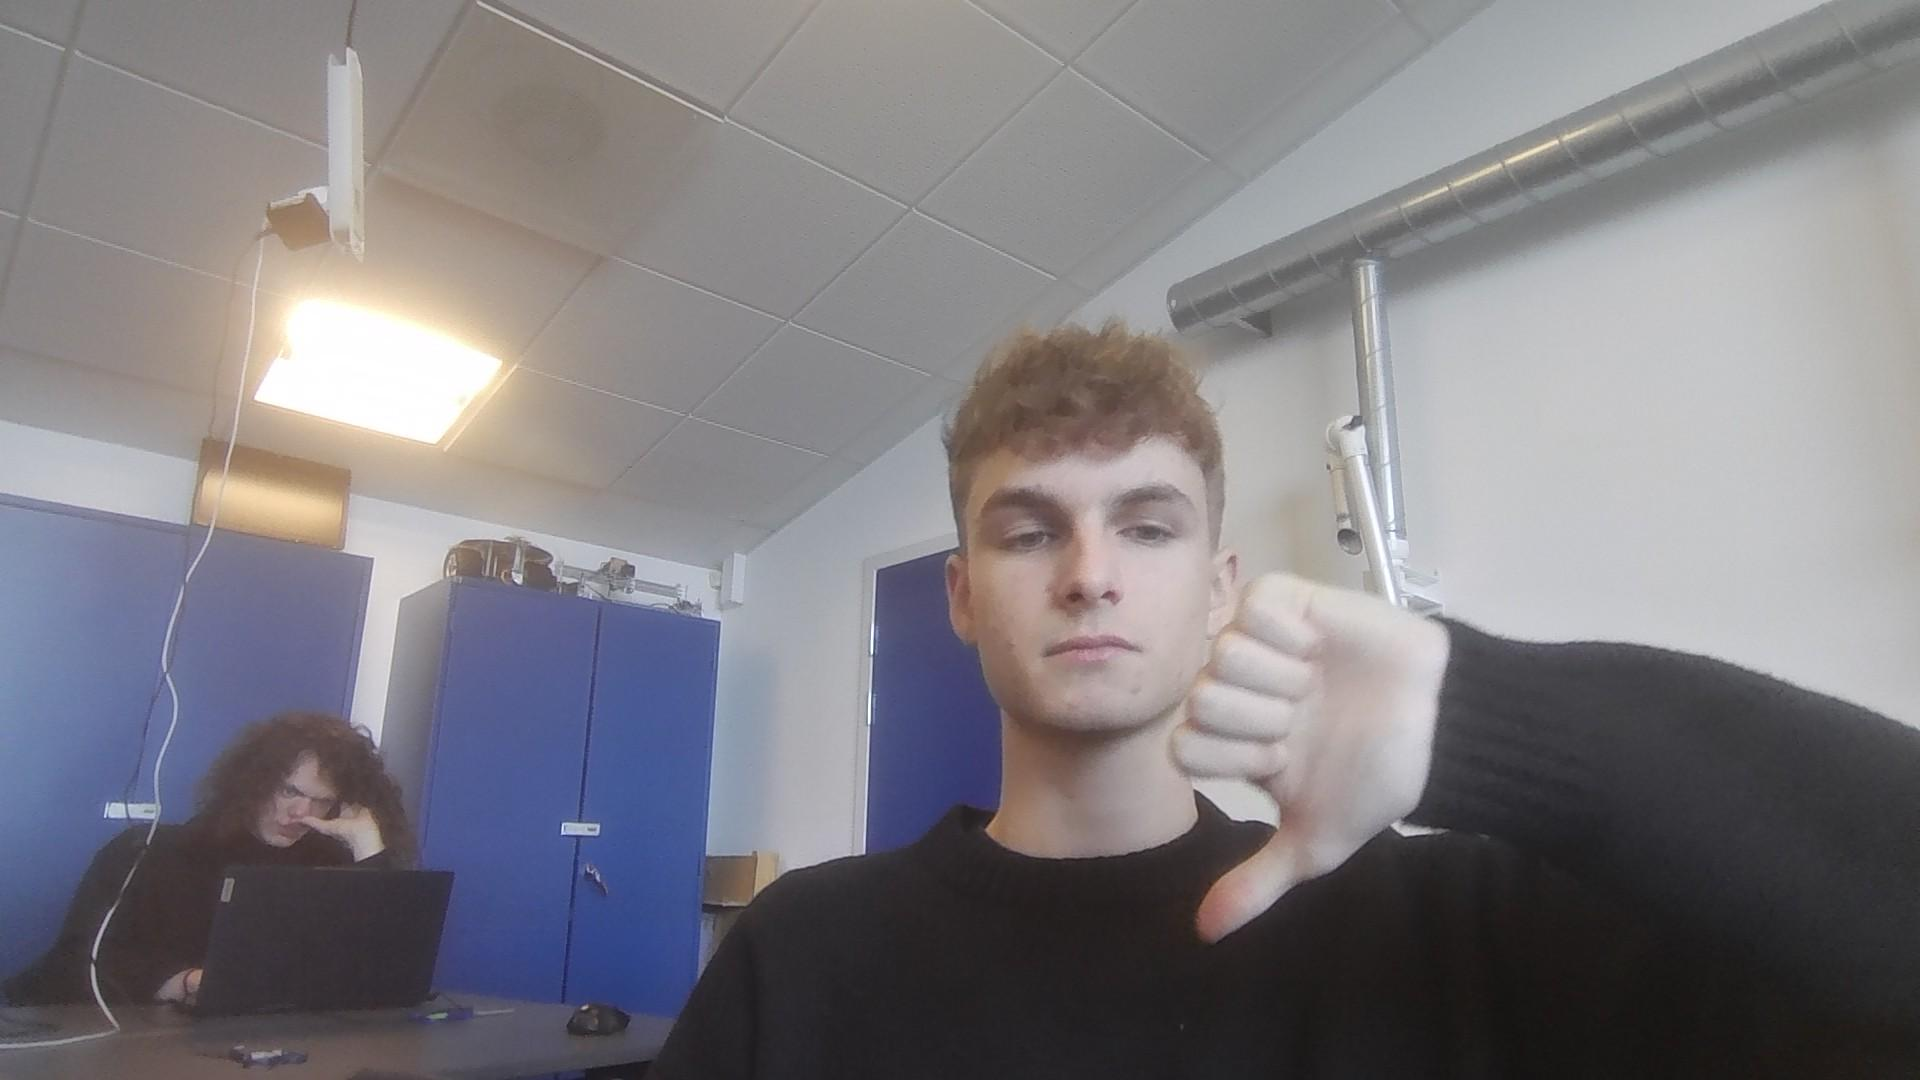thumbs down: (1175, 560, 1448, 940)
